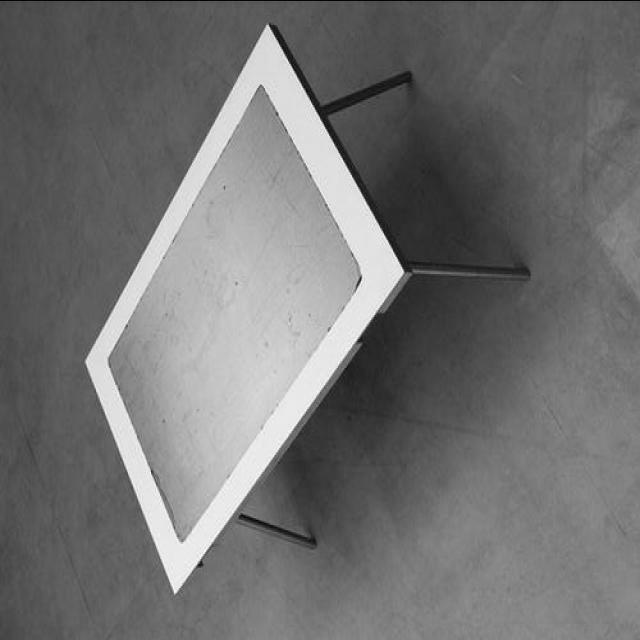table: (83, 22, 529, 593)
